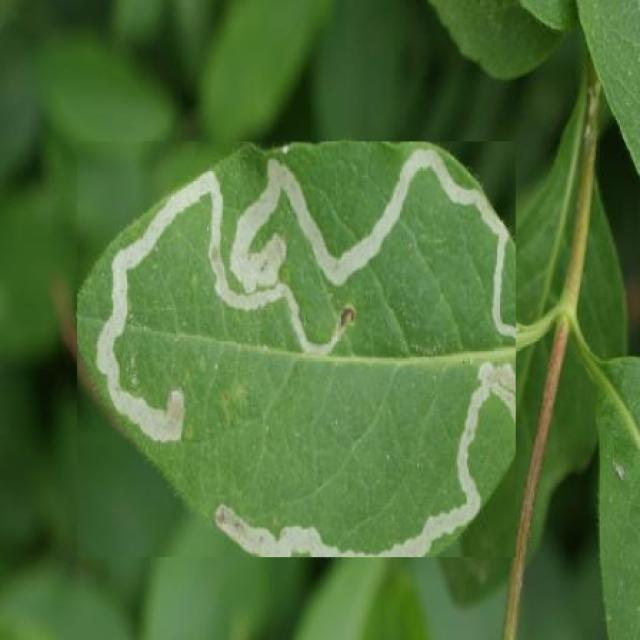Leaf Miner: (77, 142, 516, 557)
